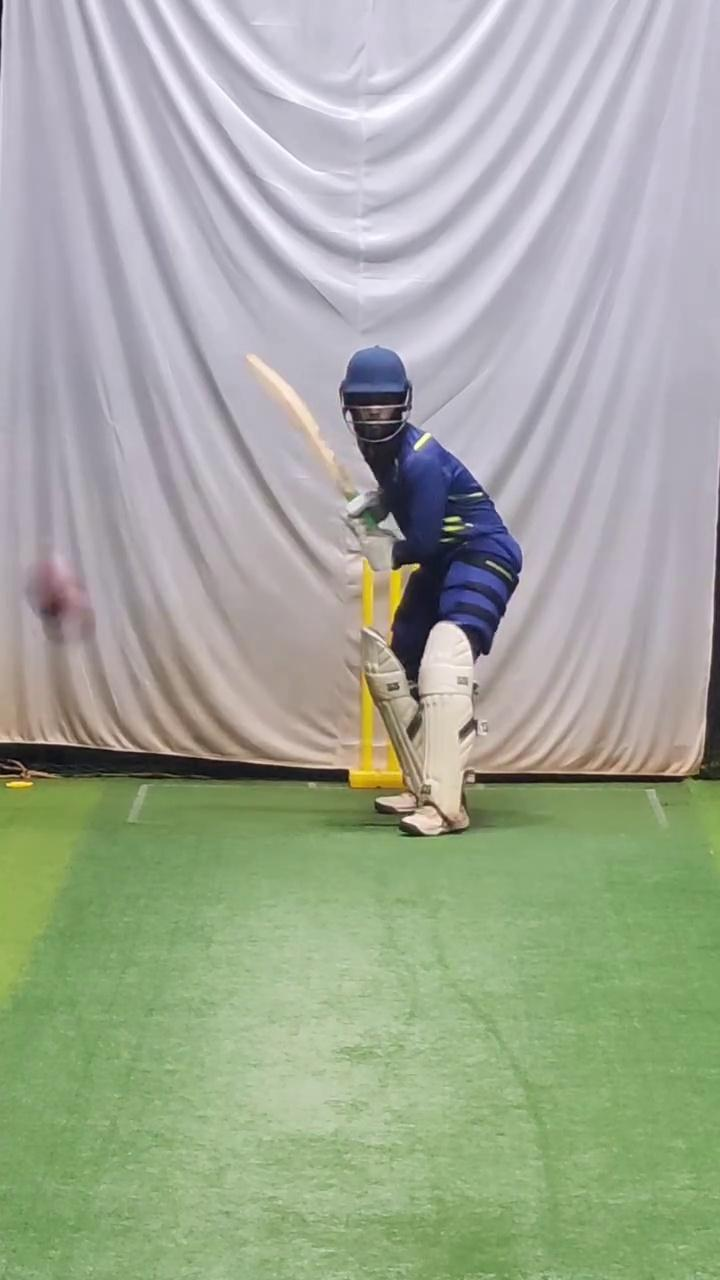bat: (241, 340, 358, 511)
